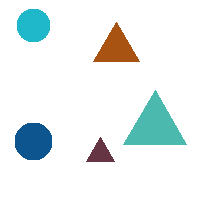circle: (15, 123, 51, 159), (17, 9, 49, 41)
triangle: (123, 90, 186, 144), (93, 22, 139, 61), (86, 137, 114, 161)
